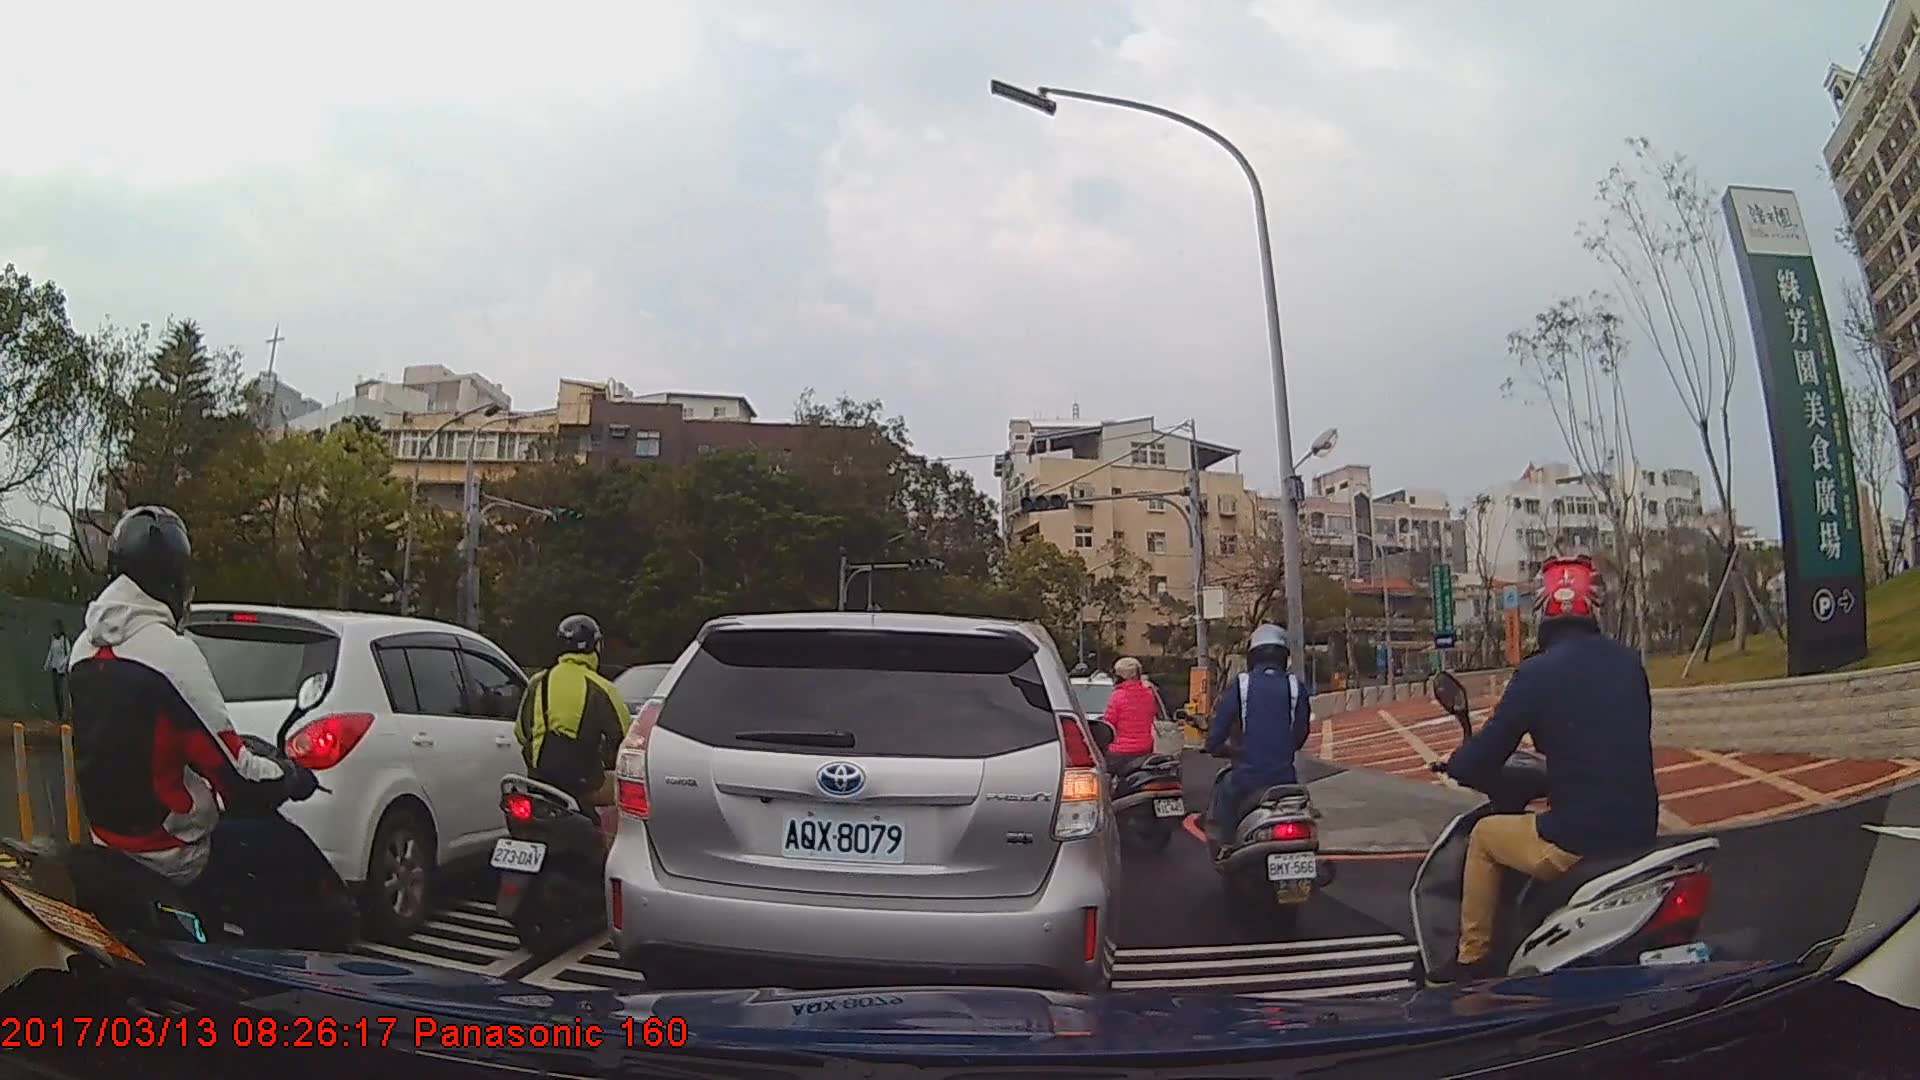pedestrian: (38, 622, 76, 719)
rider: (3, 499, 357, 1050), (1404, 556, 1718, 1040), (495, 608, 669, 955), (1202, 617, 1328, 940), (1075, 654, 1183, 861)
vehicle: (601, 610, 1122, 1001), (103, 600, 593, 942)
